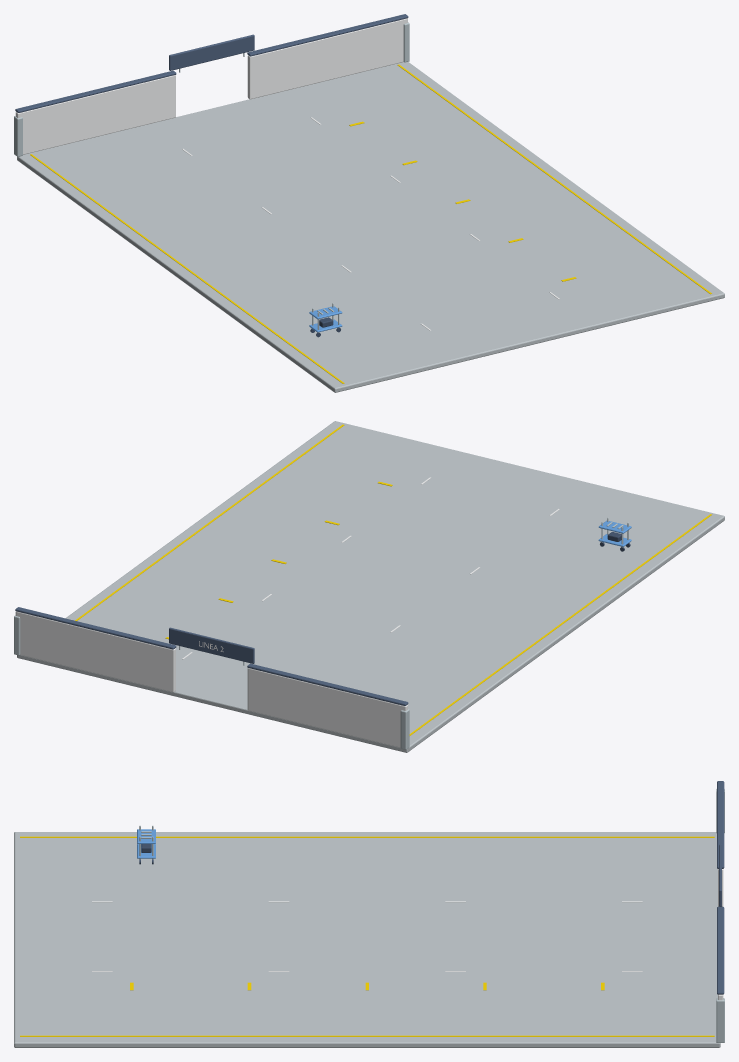
The model's file is zone-line.glb.
3 views of the same model, one above another, from view 1: azimuth 30°, elevation 25°; view 2: azimuth 150°, elevation 25°; view 3: azimuth 270°, elevation 25° (orthographic). The views are drawn at different scales.
Parts seen in each view (by area): view 1: Floor.002, Back wall.002, Section plaque.002, Aisle arrow, Plaque support.002; view 2: Floor.002, Back wall.002, Section plaque.002, Aisle arrow, Plaque support.002; view 3: Floor.002, Aisle arrow, Section plaque.002, Plaque support.002.
Boxes of the visible parts, bbox=[...] form: Floor.002: bbox=[17, 62, 724, 392]; Back wall.002: bbox=[15, 18, 407, 154]; Section plaque.002: bbox=[15, 14, 408, 112]; Aisle arrow: bbox=[30, 64, 711, 383]; Plaque support.002: bbox=[14, 22, 409, 156]; Floor.002: bbox=[17, 421, 724, 752]; Back wall.002: bbox=[15, 611, 407, 747]; Section plaque.002: bbox=[15, 607, 408, 705]; Aisle arrow: bbox=[75, 424, 711, 735]; Plaque support.002: bbox=[14, 615, 409, 749]; Floor.002: bbox=[14, 832, 720, 1047]; Aisle arrow: bbox=[20, 836, 714, 1036]; Section plaque.002: bbox=[717, 781, 724, 994]; Plaque support.002: bbox=[716, 789, 724, 1042].
Bounding box in the file's own units: 17.09 × 2.82 × 24.15.
